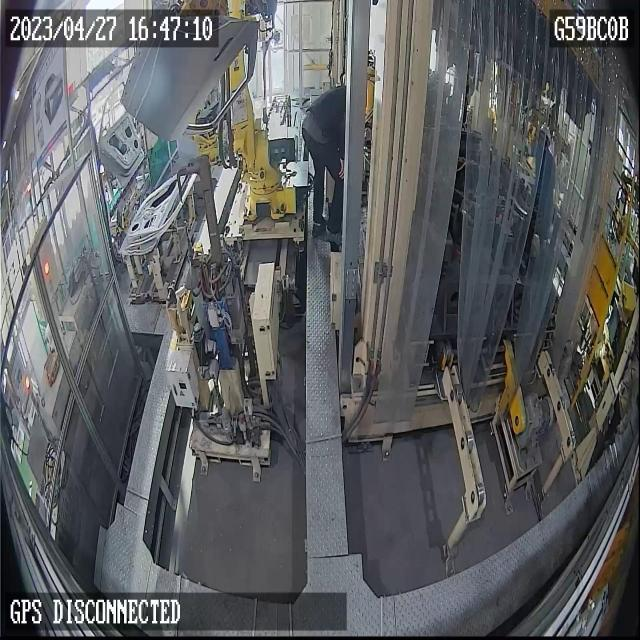Person: (301, 84, 346, 245)
